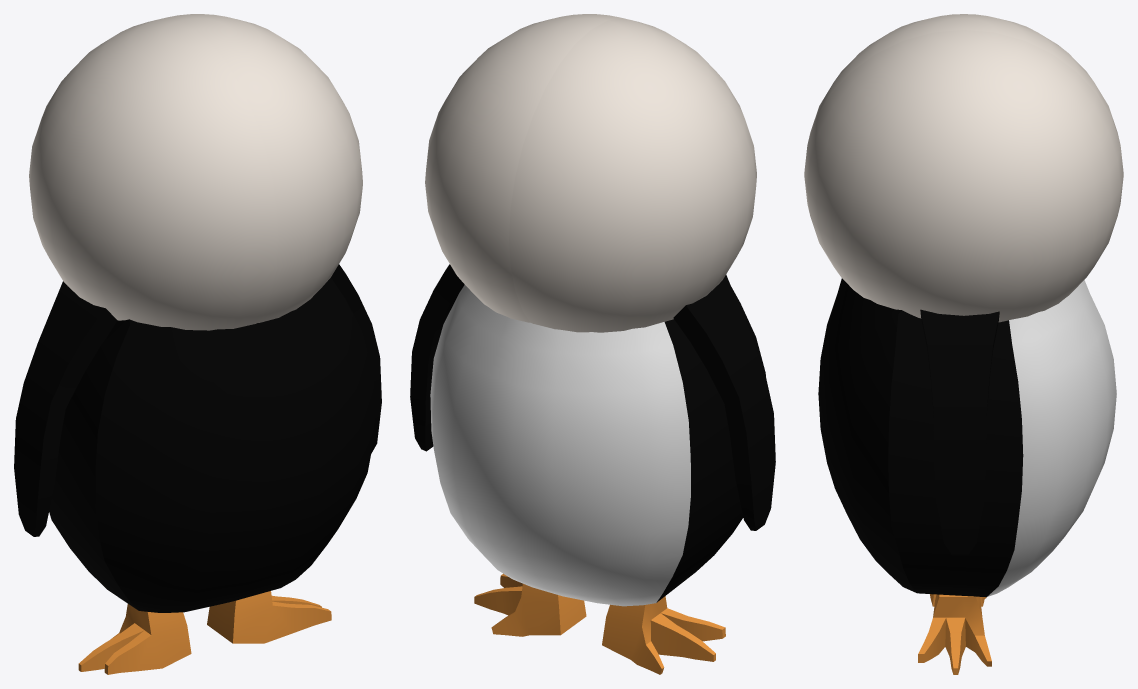
Rendered from penguin.fbx.
3 views of the same model, side by side, from view 1: azimuth 30°, elevation 25°; view 2: azimuth 150°, elevation 25°; view 3: azimuth 270°, elevation 25° (orthographic). The views are drawn at different scales.
Visible parts, largest first — view 1: Sphere.004; view 2: Sphere.004; view 3: Sphere.004.
Part boxes in pixels (<box>): Sphere.004: <box>14,14,381,674</box>; Sphere.004: <box>410,14,775,674</box>; Sphere.004: <box>804,14,1123,674</box>.
Size of the model in its own units: 6254 by 10768 by 5219.
